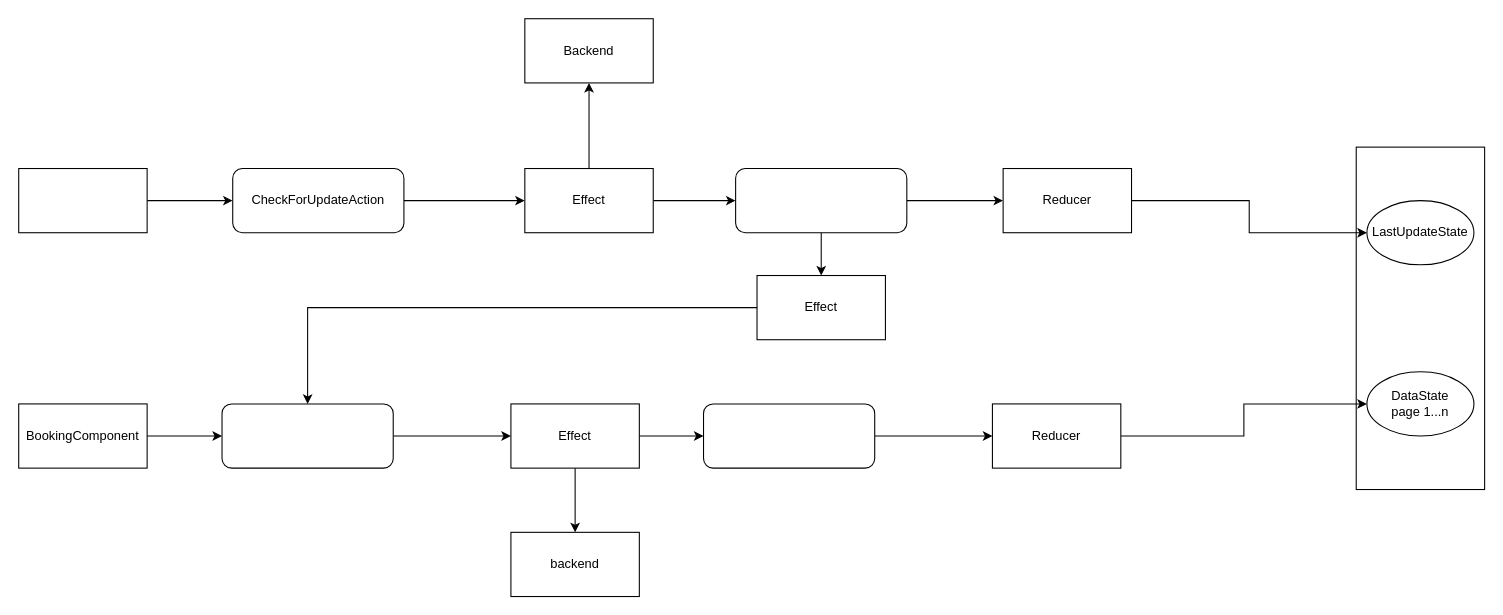
Image size: 1503x615. Some labels were removed from this diagram. The box of each missing label's shape, as (x1, y1, x2, y2) in pixels:
DataLoadedAction: (702, 403, 875, 468)
LastUpdateAction: (735, 167, 907, 233)
LoadDataAction page 1: (221, 403, 393, 468)
Service: (18, 167, 147, 233)
Sore: (1355, 146, 1485, 490)
